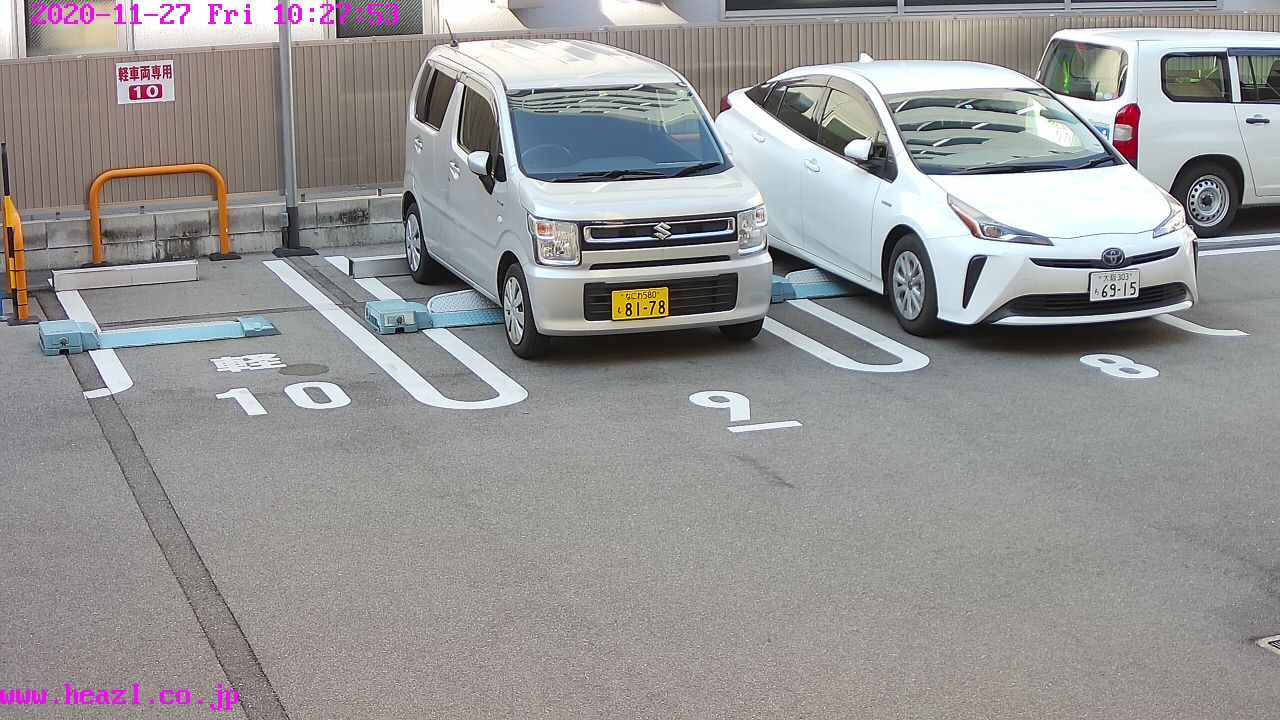number_plate: (1089, 272, 1141, 302), (614, 290, 668, 318)
